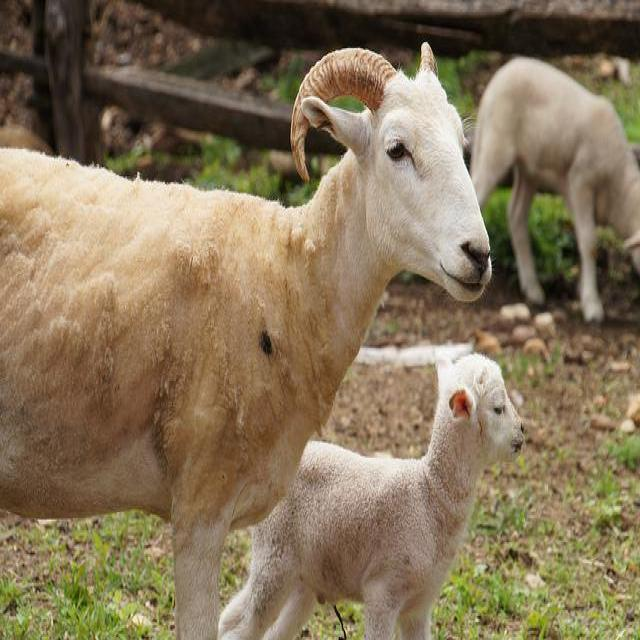Sheep: (0, 38, 494, 632), (222, 354, 533, 634), (465, 54, 639, 324)
